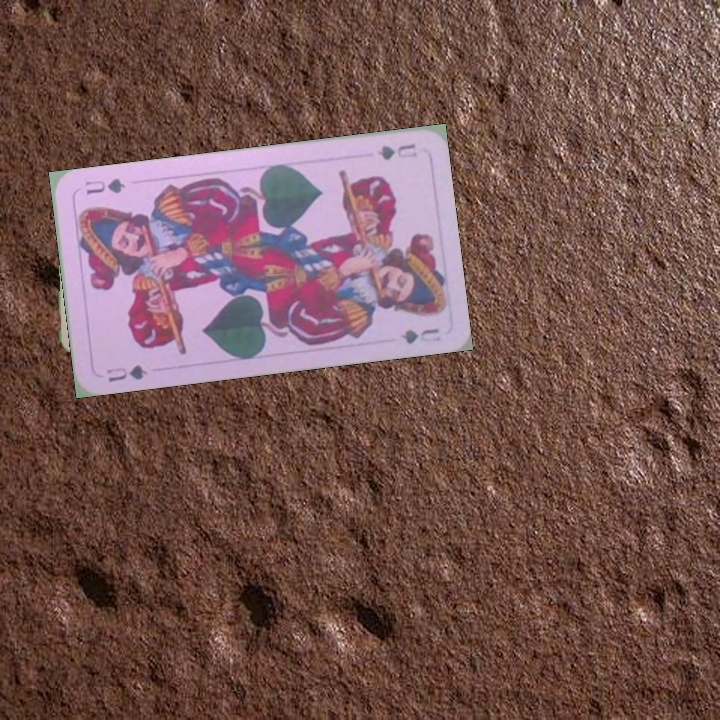GU: (103, 360, 149, 385), (373, 139, 420, 163)
